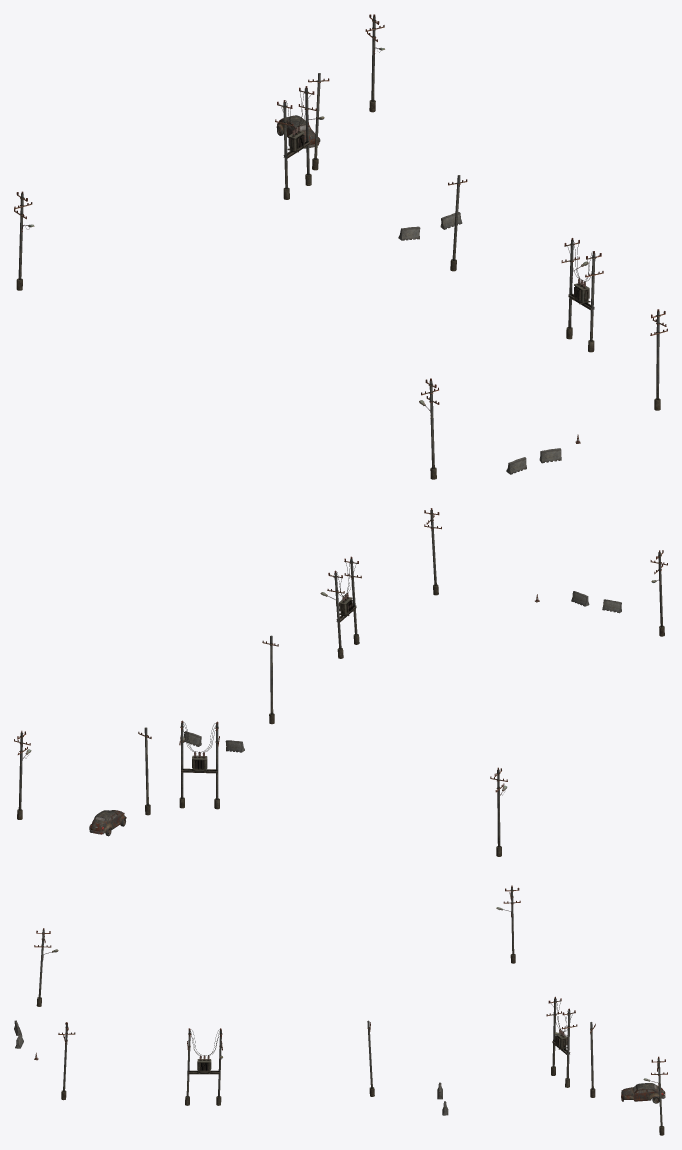
The picture shows the model from 3 angles, top to bottom: view 1: azimuth 30°, elevation 25°; view 2: azimuth 150°, elevation 25°; view 3: azimuth 270°, elevation 25°; orthographic projection. The views are drawn at different scales.
Visible parts, largest first — view 1: GP_LOD2; view 2: GP_LOD2; view 3: GP_LOD2.
Boxes of the visible parts, bbox=[...] form: GP_LOD2: bbox=[14, 14, 667, 479]; GP_LOD2: bbox=[14, 508, 667, 856]; GP_LOD2: bbox=[14, 885, 667, 1135].
Bounding box in the file's own units: 4330 × 903 × 6674.
